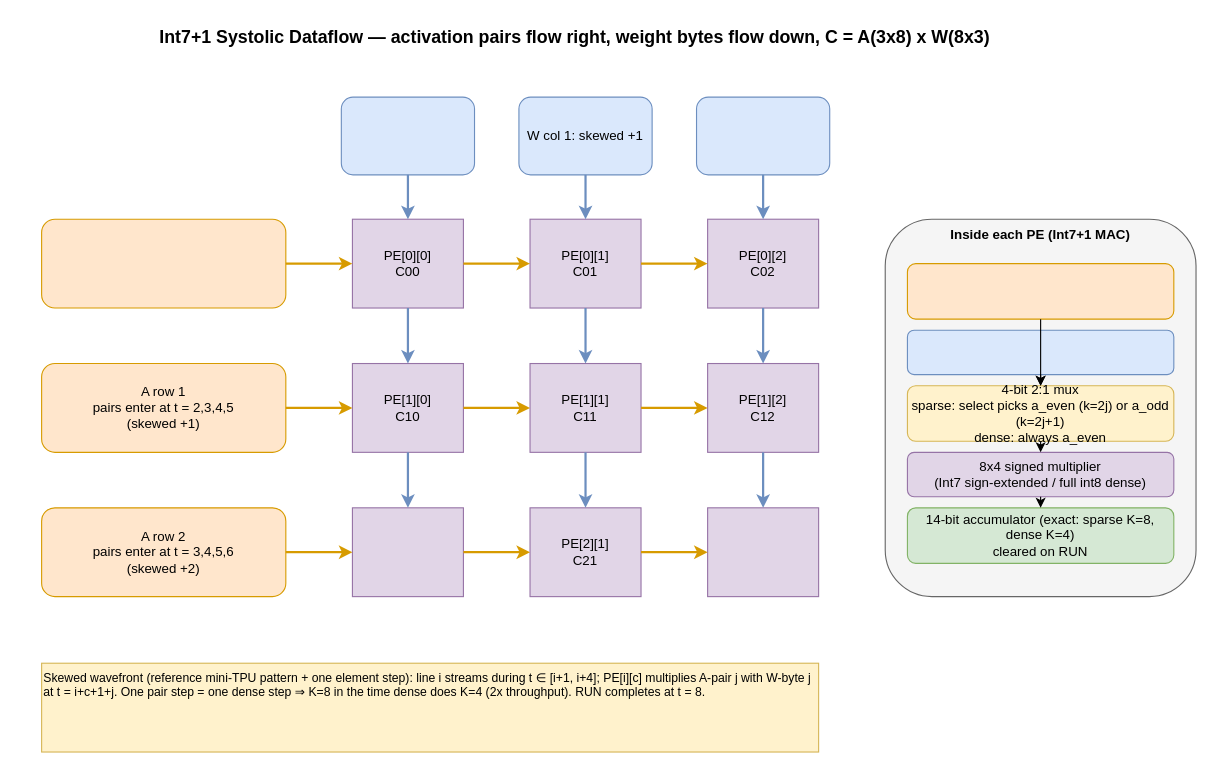
Some shapes in this 1215 by 771 pixel diagram are drawn without their labels. Each missing label, with the centre of its shape:
"A row 0 pairs (A00,A01) (A02,A03) (A04,A05) (A06,A07) enters at t = 1,2,3,4" belongs at pixel 163 263.
"a_in[7:0] = pair {a_odd, a_even} (two contraction steps)" belongs at pixel 1040 291.
"b_in[7:0] = {select, value[6:0]}" belongs at pixel 1040 352.
"PE[2][0] C20" belongs at pixel 407 552.
"PE[2][2] C22" belongs at pixel 763 552.
"W col 0: bytes slot 0,1,2,3 at t = 1,2,3,4" belongs at pixel 407 135.
"W col 2: skewed +2" belongs at pixel 762 135.
